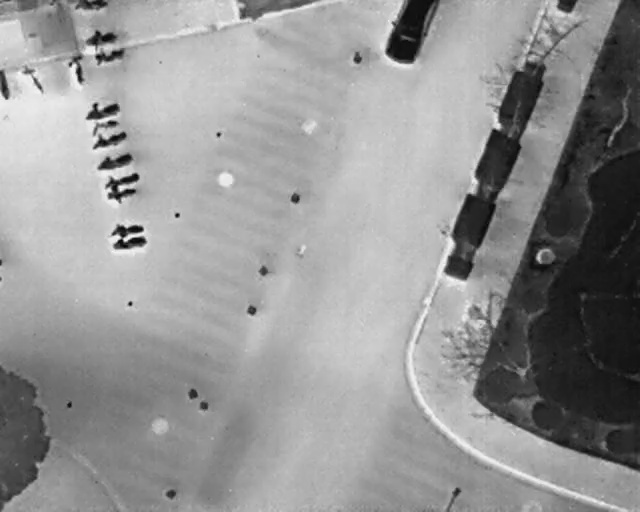Bicycle: (80, 96, 123, 125), (86, 125, 130, 153), (18, 60, 48, 98), (93, 149, 135, 174), (65, 51, 92, 88), (104, 217, 146, 240), (80, 26, 118, 51), (101, 169, 141, 192), (102, 181, 138, 206), (109, 232, 149, 254), (91, 44, 127, 66), (86, 116, 120, 137), (73, 0, 110, 12), (0, 67, 11, 102)
Car: (379, 0, 441, 65)
